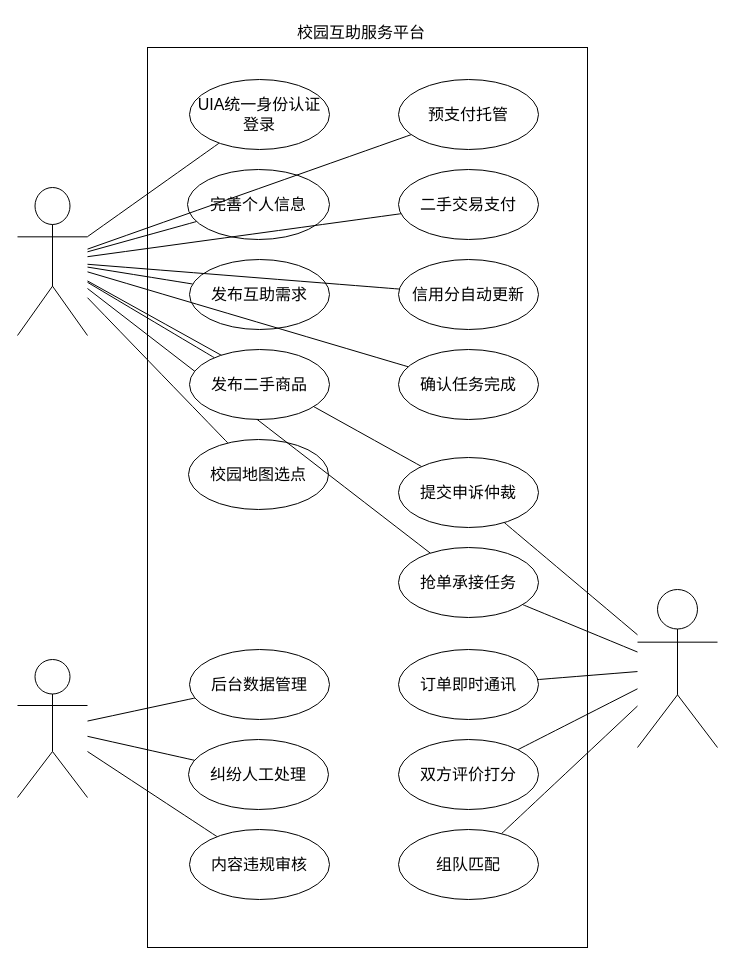
The diagram is 735 pixels wide and 965 high, and some of its shapes have lost their labels. Here are the shapes that lost their labels. From the top down, the centre of each, then its label:
the point at 52,261: 普通学生
the point at 677,668: 接单人
the point at 52,728: 系统管理员
